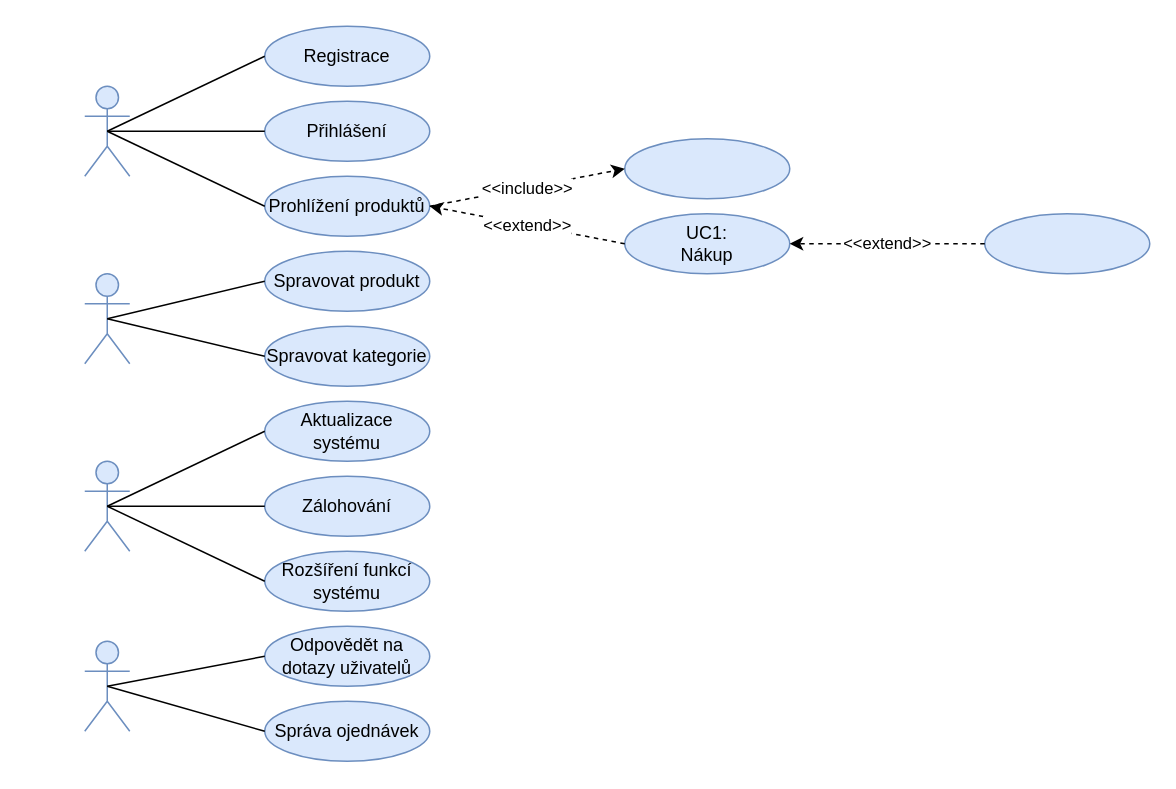
This 1176x789 diagram has some shape labels left out. The centre of each missing label's shape, as x and y in pixels:
"Administrátor" belongs at pixel 106 318.
"Platební metody" belongs at pixel 1066 243.
"Procházet kategorie produktů" belongs at pixel 706 168.
"Uživatel" belongs at pixel 106 130.
"Vývojař" belongs at pixel 106 505.
"Zákaznická Podpora" belongs at pixel 106 685.
